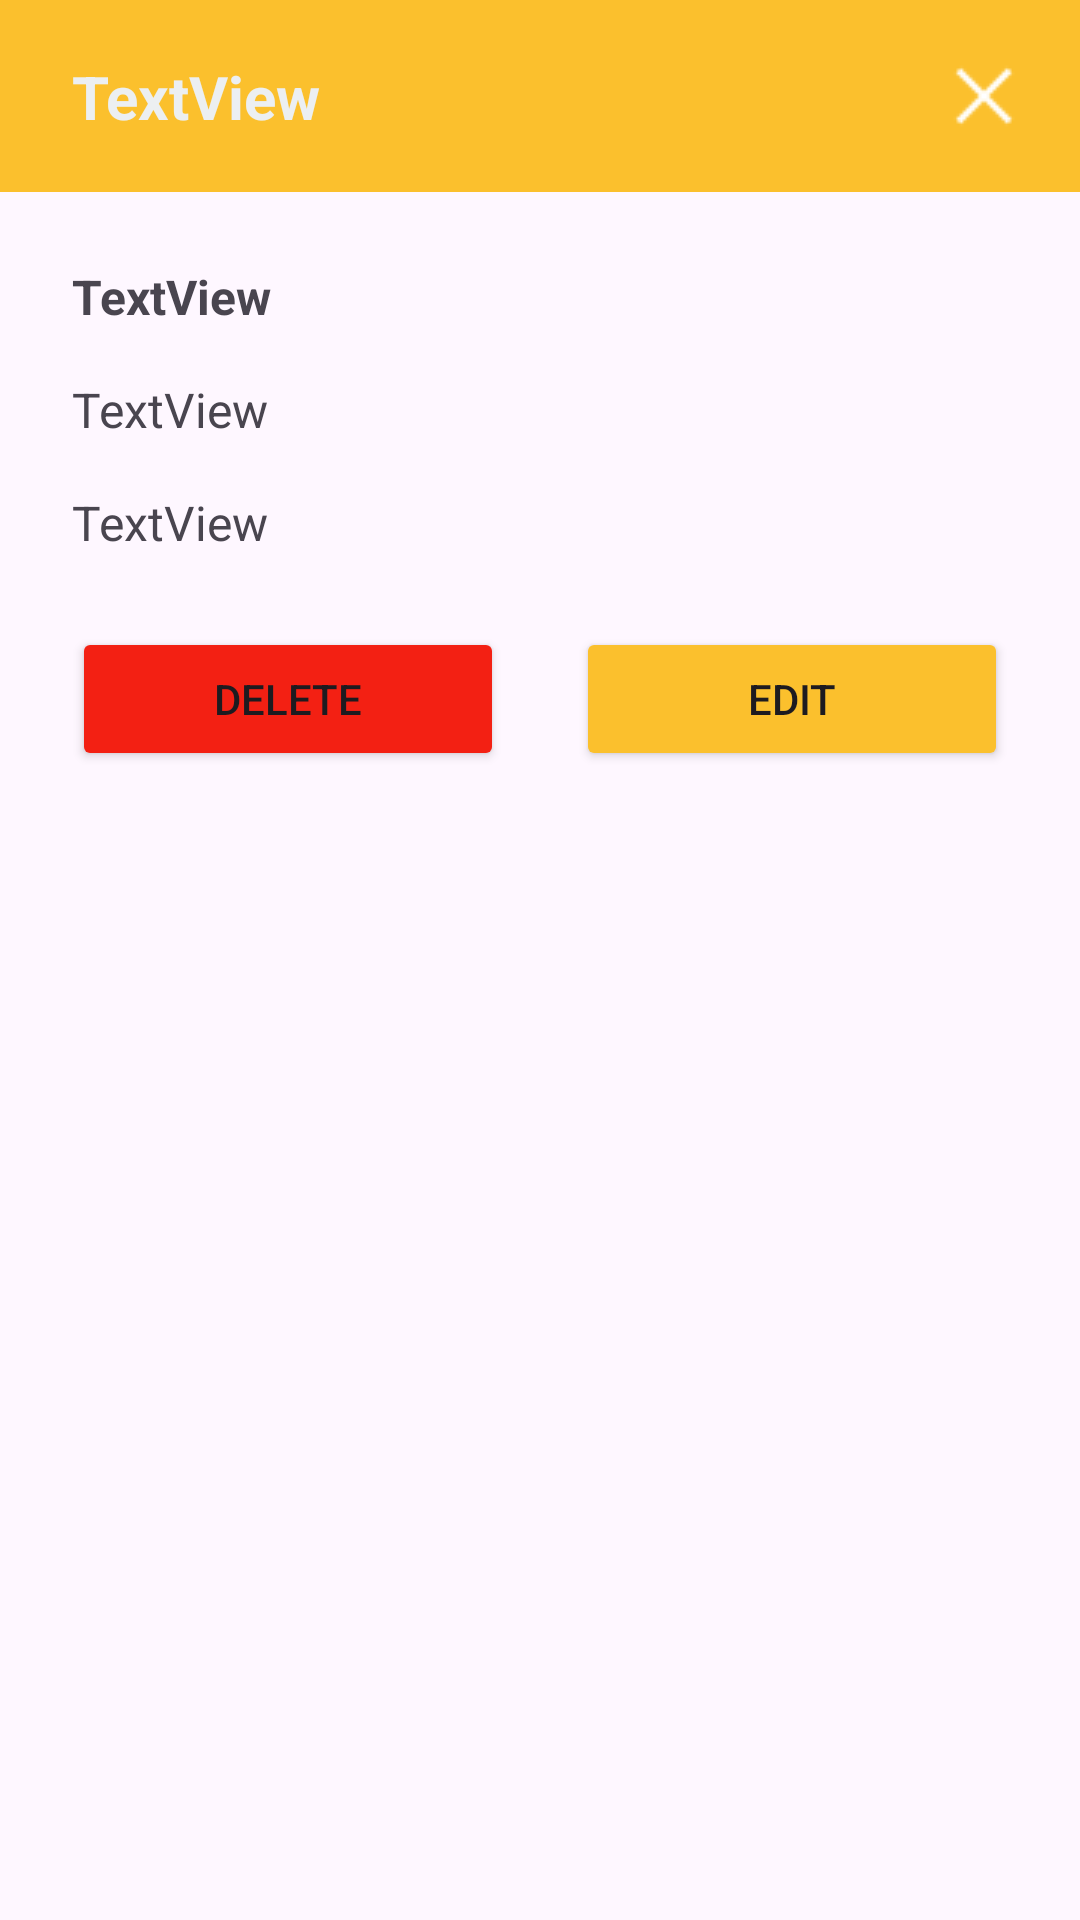

Named icons in this screenshot (1080px×1920px) and their centers, [x,y]:
Close: [984,96]
